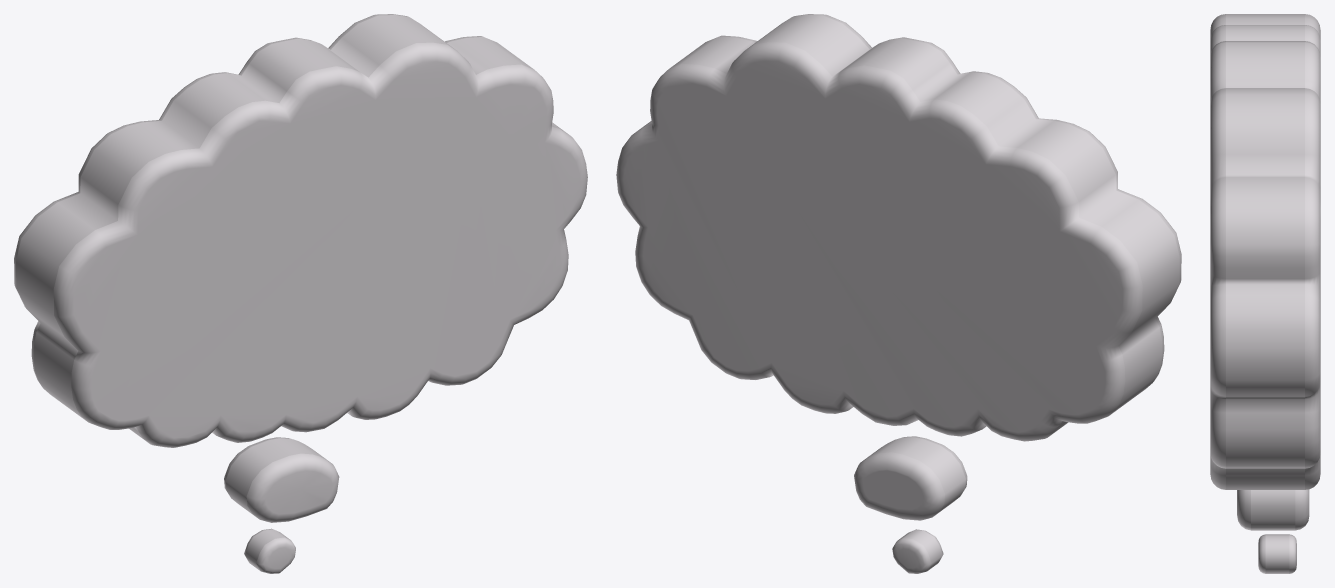
The model's file is think.fbx.
3 views of the same model, side by side, from view 1: azimuth 30°, elevation 25°; view 2: azimuth 150°, elevation 25°; view 3: azimuth 270°, elevation 25° (orthographic). The views are drawn at different scales.
Parts seen in each view (by area): view 1: mesh_id21; view 2: mesh_id21; view 3: mesh_id21.
Part boxes in pixels (x1,y1,x2,y2): mesh_id21: (14, 14, 587, 573); mesh_id21: (616, 14, 1181, 573); mesh_id21: (1210, 14, 1320, 573).
Size of the model in its own units: 100 by 92.42 by 17.12.
Materials: 1 (1 with a texture image).
